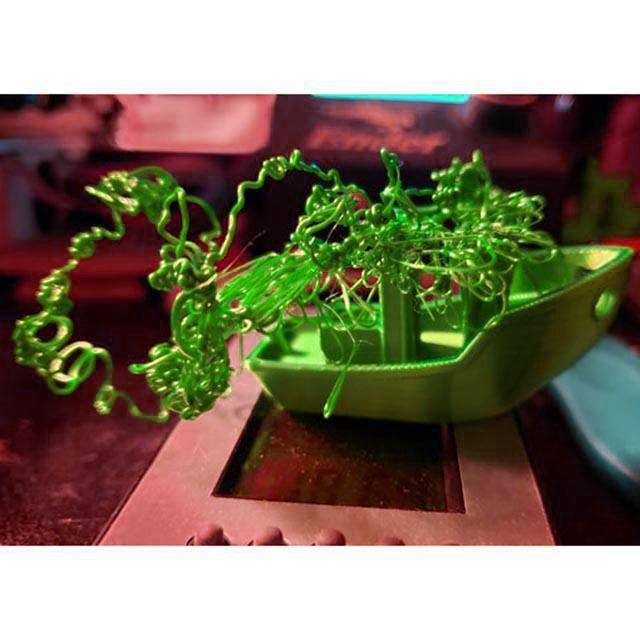Spaghetti: (13, 144, 560, 422)
